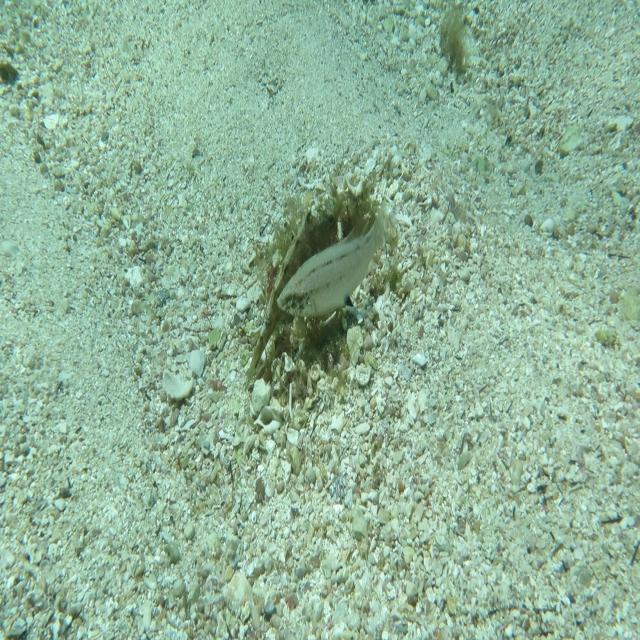FAN: (242, 193, 344, 398)
core_nest: (313, 197, 372, 255)
female: (275, 198, 395, 322)
nest: (247, 162, 392, 402)
